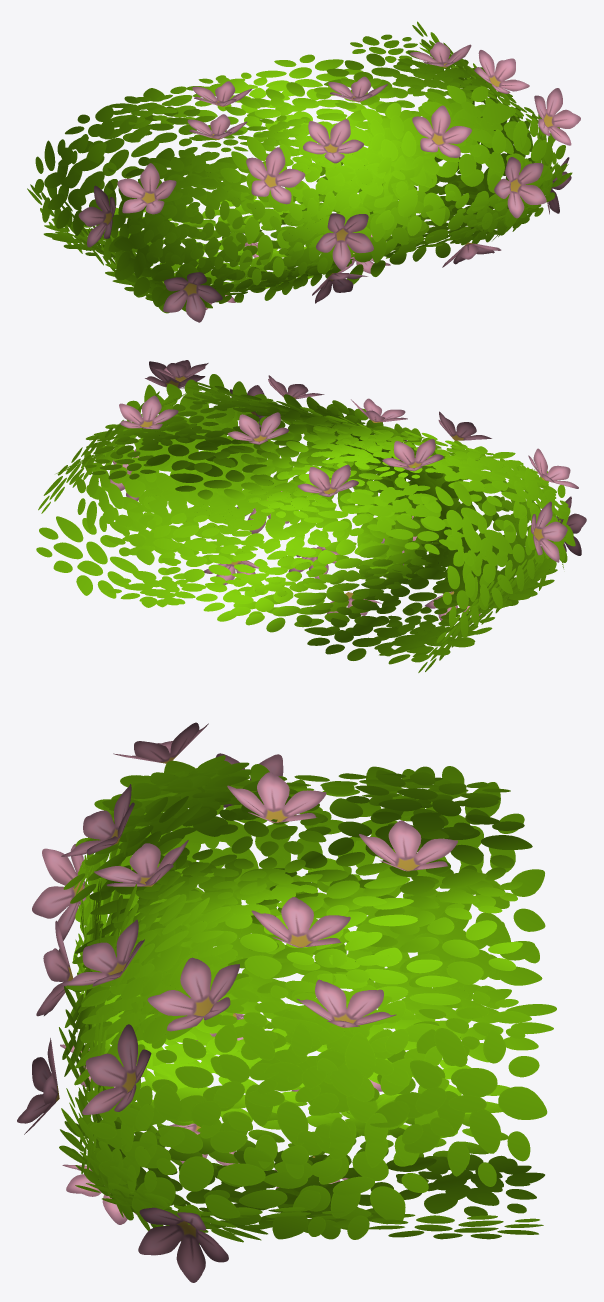
Rendered from Bush_Large_Flowers.glb.
3 views of the same model, one above another, from view 1: azimuth 30°, elevation 25°; view 2: azimuth 150°, elevation 25°; view 3: azimuth 270°, elevation 25° (orthographic). The views are drawn at different scales.
Parts seen in each view (by area): view 1: Bush_Large_Flowers; view 2: Bush_Large_Flowers; view 3: Bush_Large_Flowers.
Boxes of the visible parts, <box> form: Bush_Large_Flowers: <box>27,21,580,322</box>; Bush_Large_Flowers: <box>36,360,586,672</box>; Bush_Large_Flowers: <box>17,722,556,1282</box>.
Bounding box in the file's own units: 1.93 × 0.7617 × 1.26.
2 materials, 2 textured.
